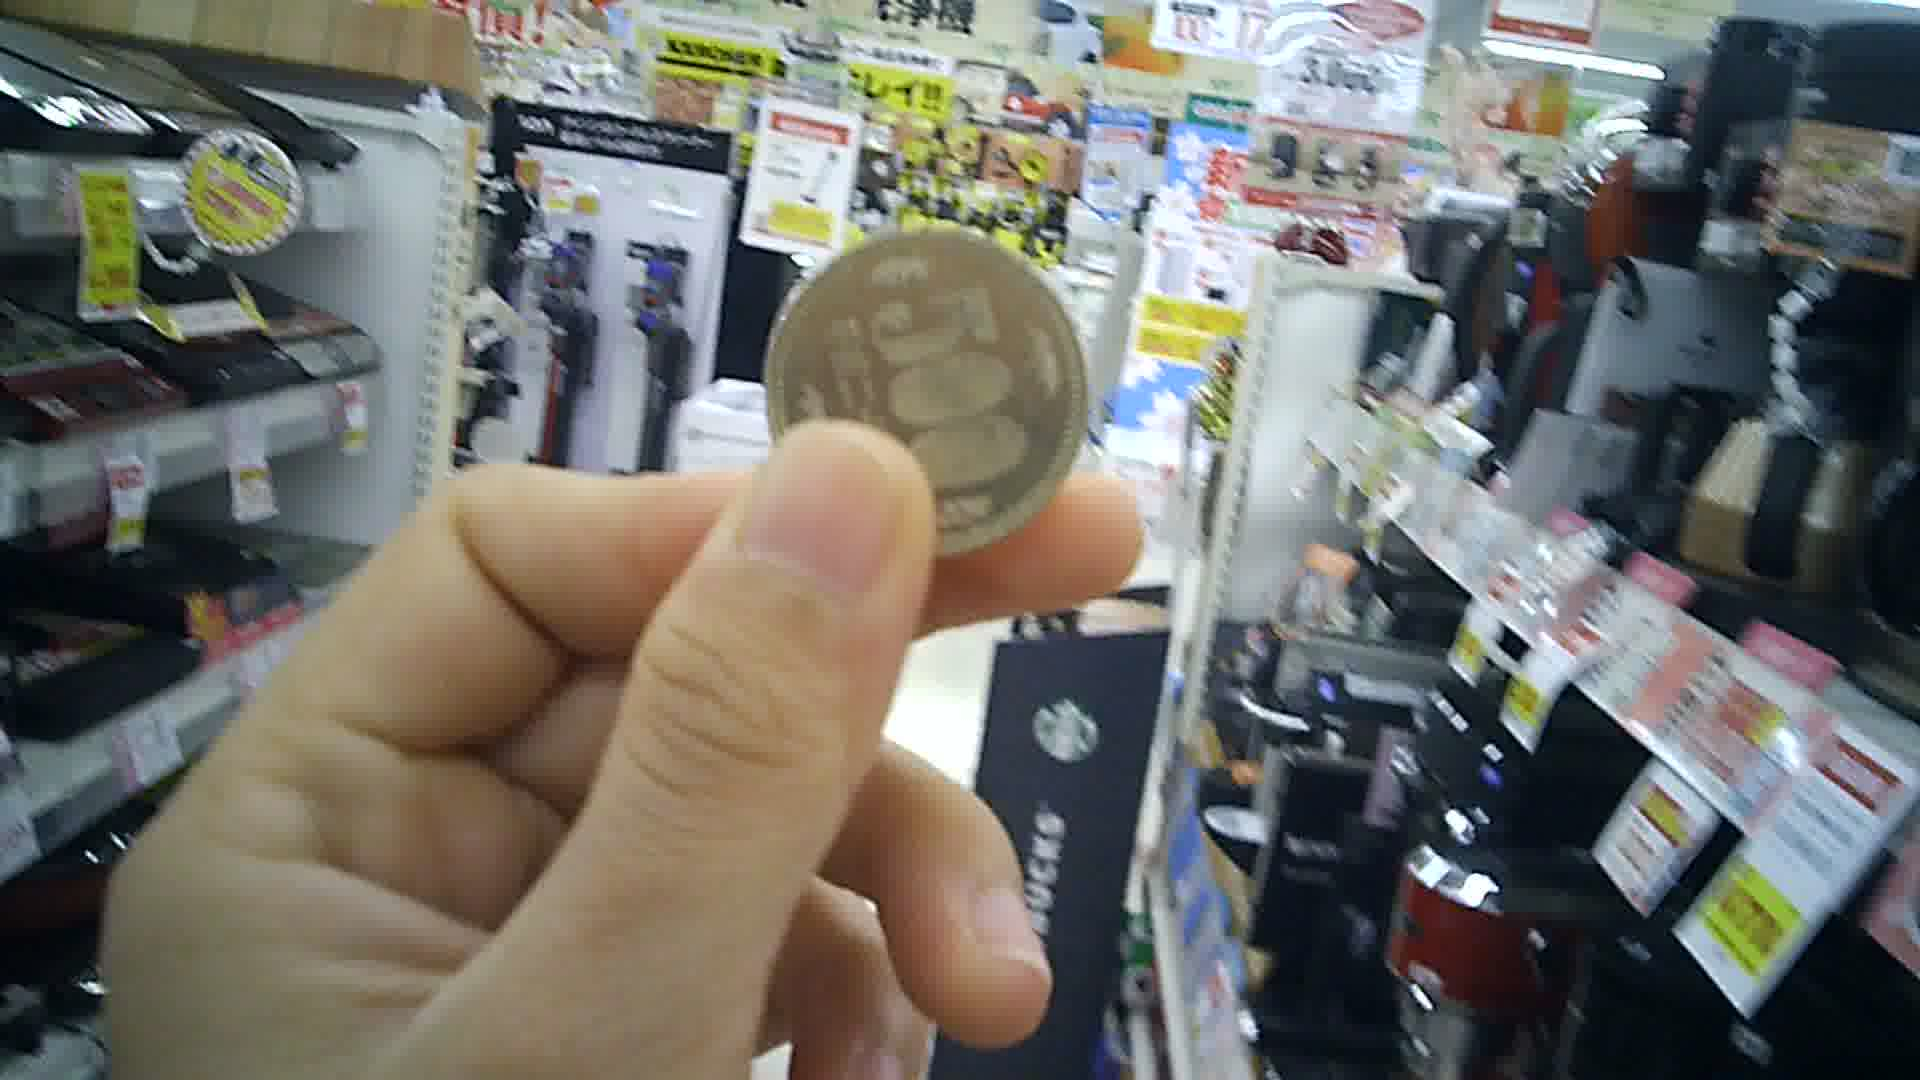500 Yen: (758, 225, 1084, 560)
